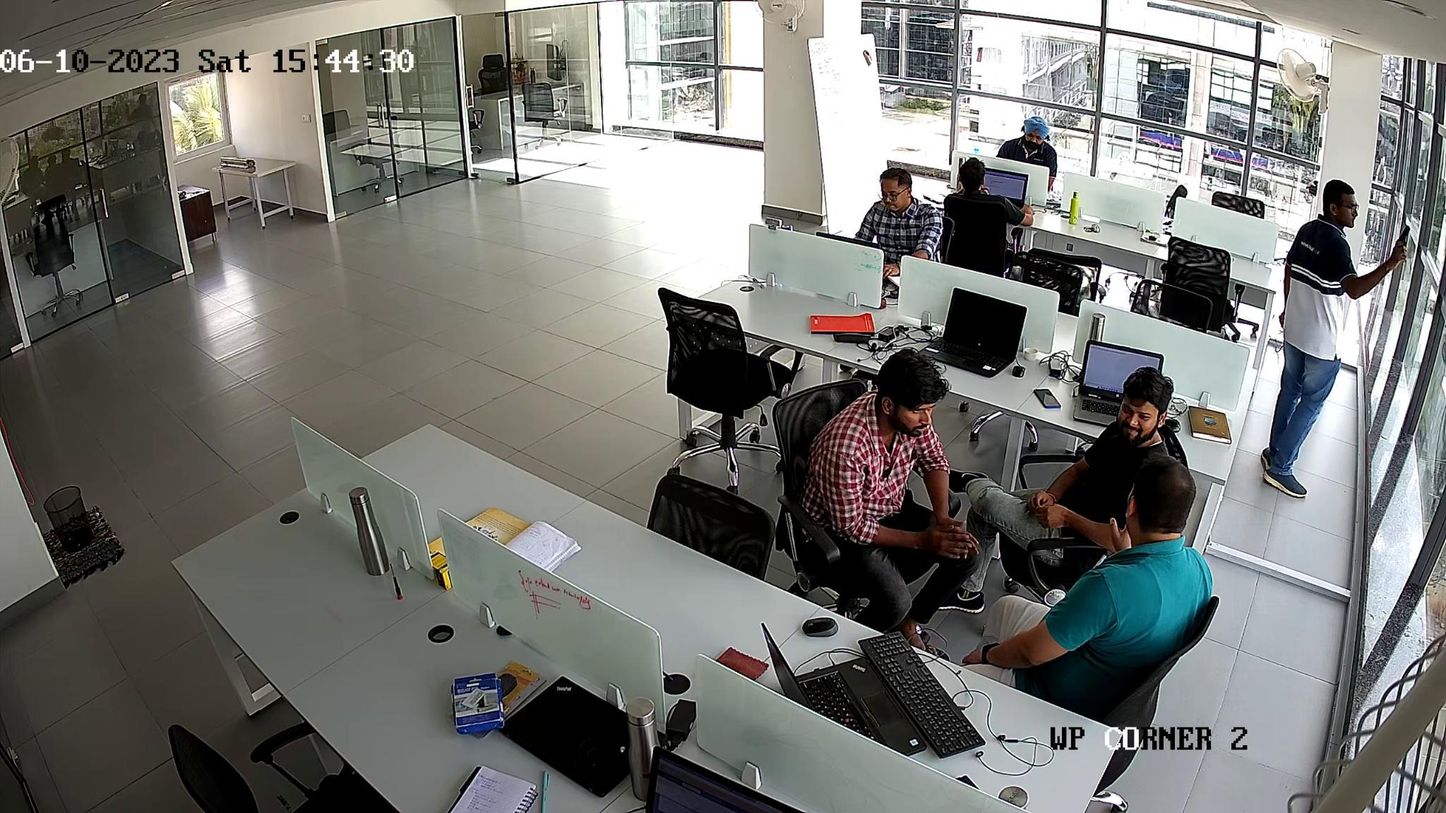gun: (1398, 225, 1410, 261)
